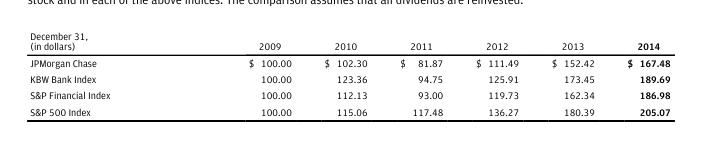table: (29, 29, 669, 117)
table column: (29, 29, 178, 117), (178, 29, 307, 117), (382, 29, 458, 117), (458, 29, 534, 117), (534, 29, 610, 117), (307, 29, 382, 117), (610, 29, 669, 117)
table column header: (29, 29, 669, 53)
table row: (29, 29, 669, 53), (29, 53, 669, 70), (29, 70, 669, 86), (29, 86, 669, 102), (29, 102, 669, 117)
